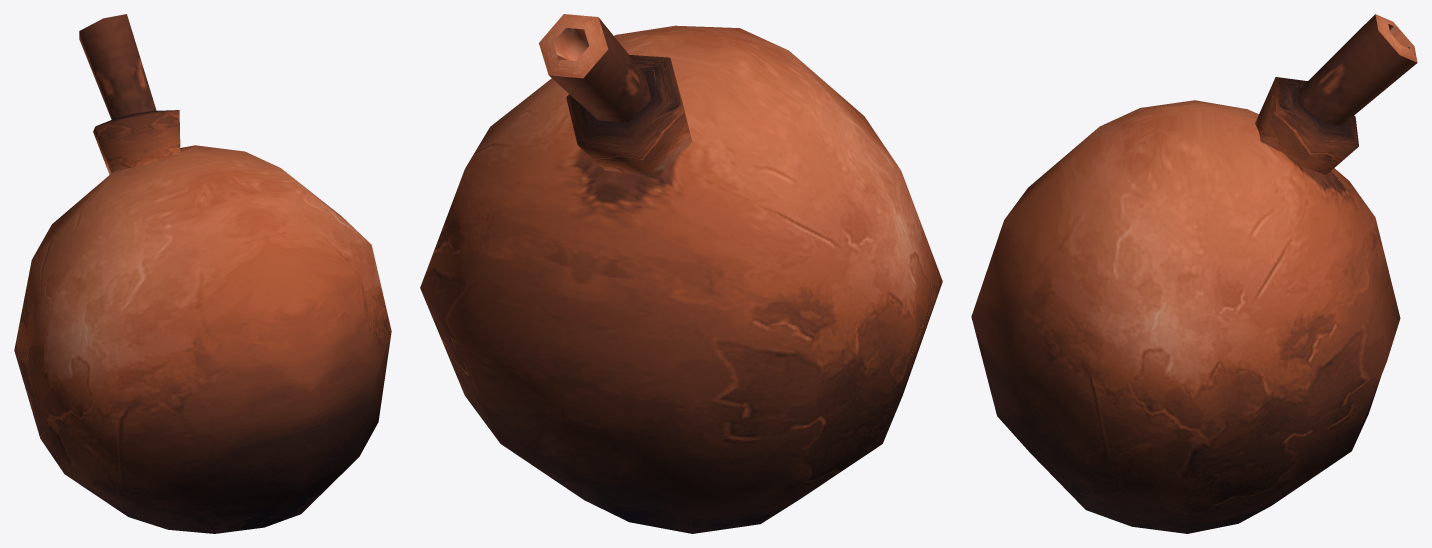
Rendered from XBomb.fbx.
3 views of the same model, side by side, from view 1: azimuth 30°, elevation 25°; view 2: azimuth 150°, elevation 25°; view 3: azimuth 270°, elevation 25° (orthographic). The views are drawn at different scales.
Parts seen in each view (by area): view 1: Missile_bomb; view 2: Missile_bomb; view 3: Missile_bomb.
Boxes of the visible parts, box(x1,y1,x2,y2) form: Missile_bomb: box(14, 14, 391, 533); Missile_bomb: box(420, 14, 942, 533); Missile_bomb: box(971, 14, 1417, 533).
Bounding box in the file's own units: 43.2 × 53.71 × 44.97.
Materials: 1 (1 with a texture image).
